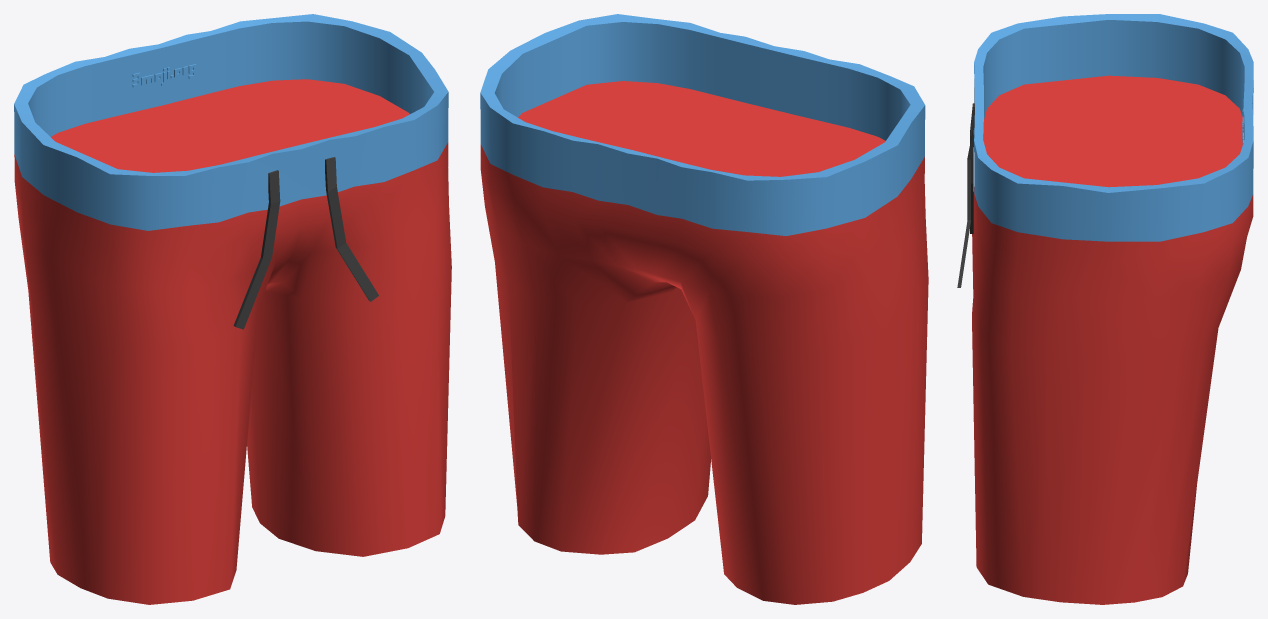
Rendered from shorts.fbx.
The picture shows the model from 3 angles, left to right: view 1: azimuth 30°, elevation 25°; view 2: azimuth 150°, elevation 25°; view 3: azimuth 270°, elevation 25°; orthographic projection. The views are drawn at different scales.
Visible parts, largest first — view 1: Circle.1803; view 2: Circle.1803; view 3: Circle.1803.
Boxes of the visible parts, x1,y1,x2,y2 form: Circle.1803: (14, 14, 451, 604); Circle.1803: (480, 14, 928, 604); Circle.1803: (957, 14, 1253, 604).
Bounding box in the file's own units: 158 × 175 × 110.
Materials: 1 (1 with a texture image).
